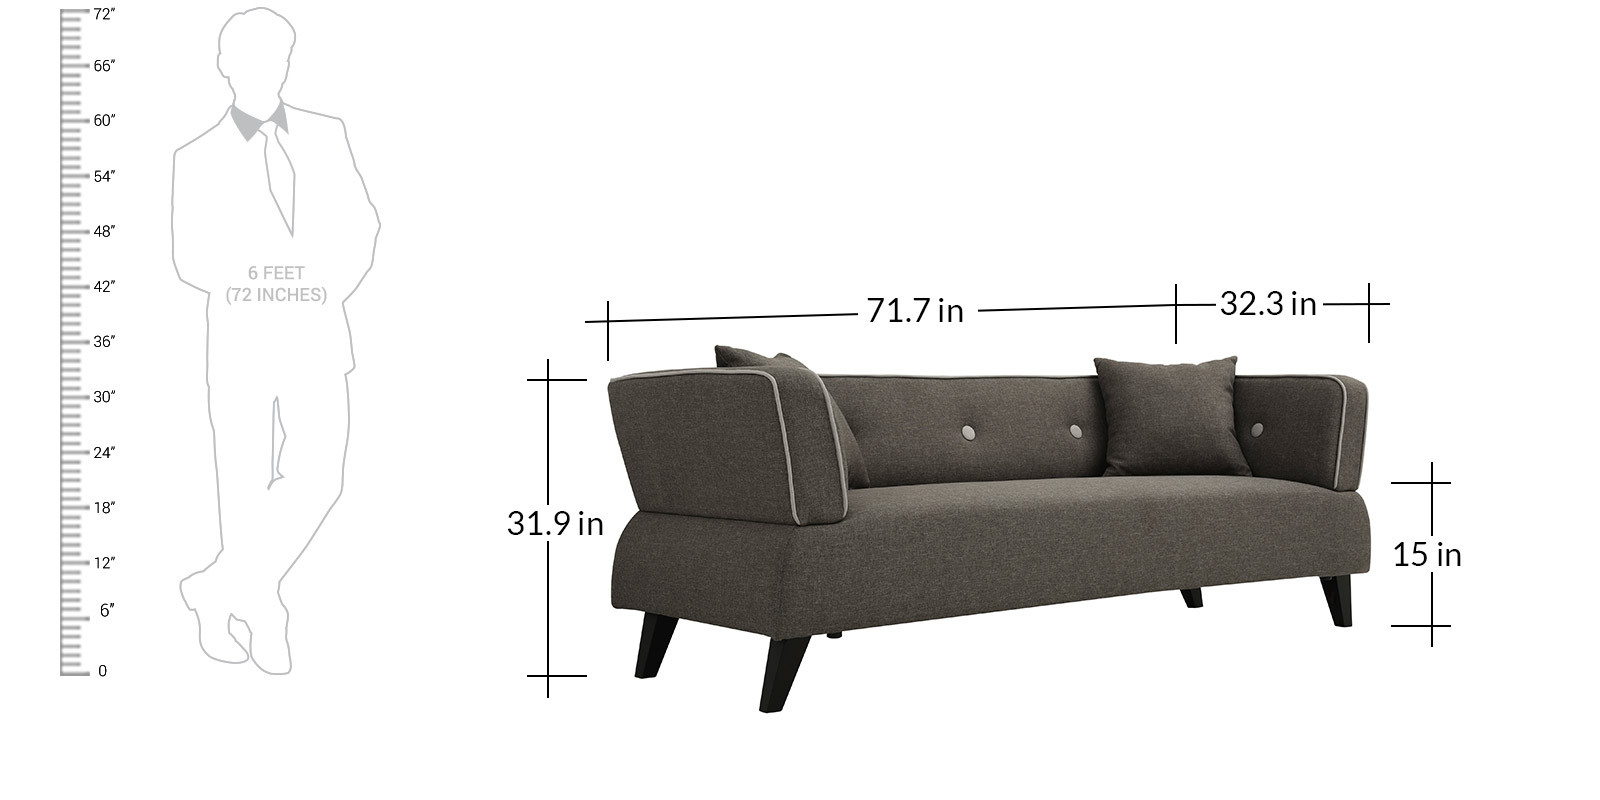Dime Three Seater Sofa in Grey Colour by Zofa: (597, 339, 1389, 718)
